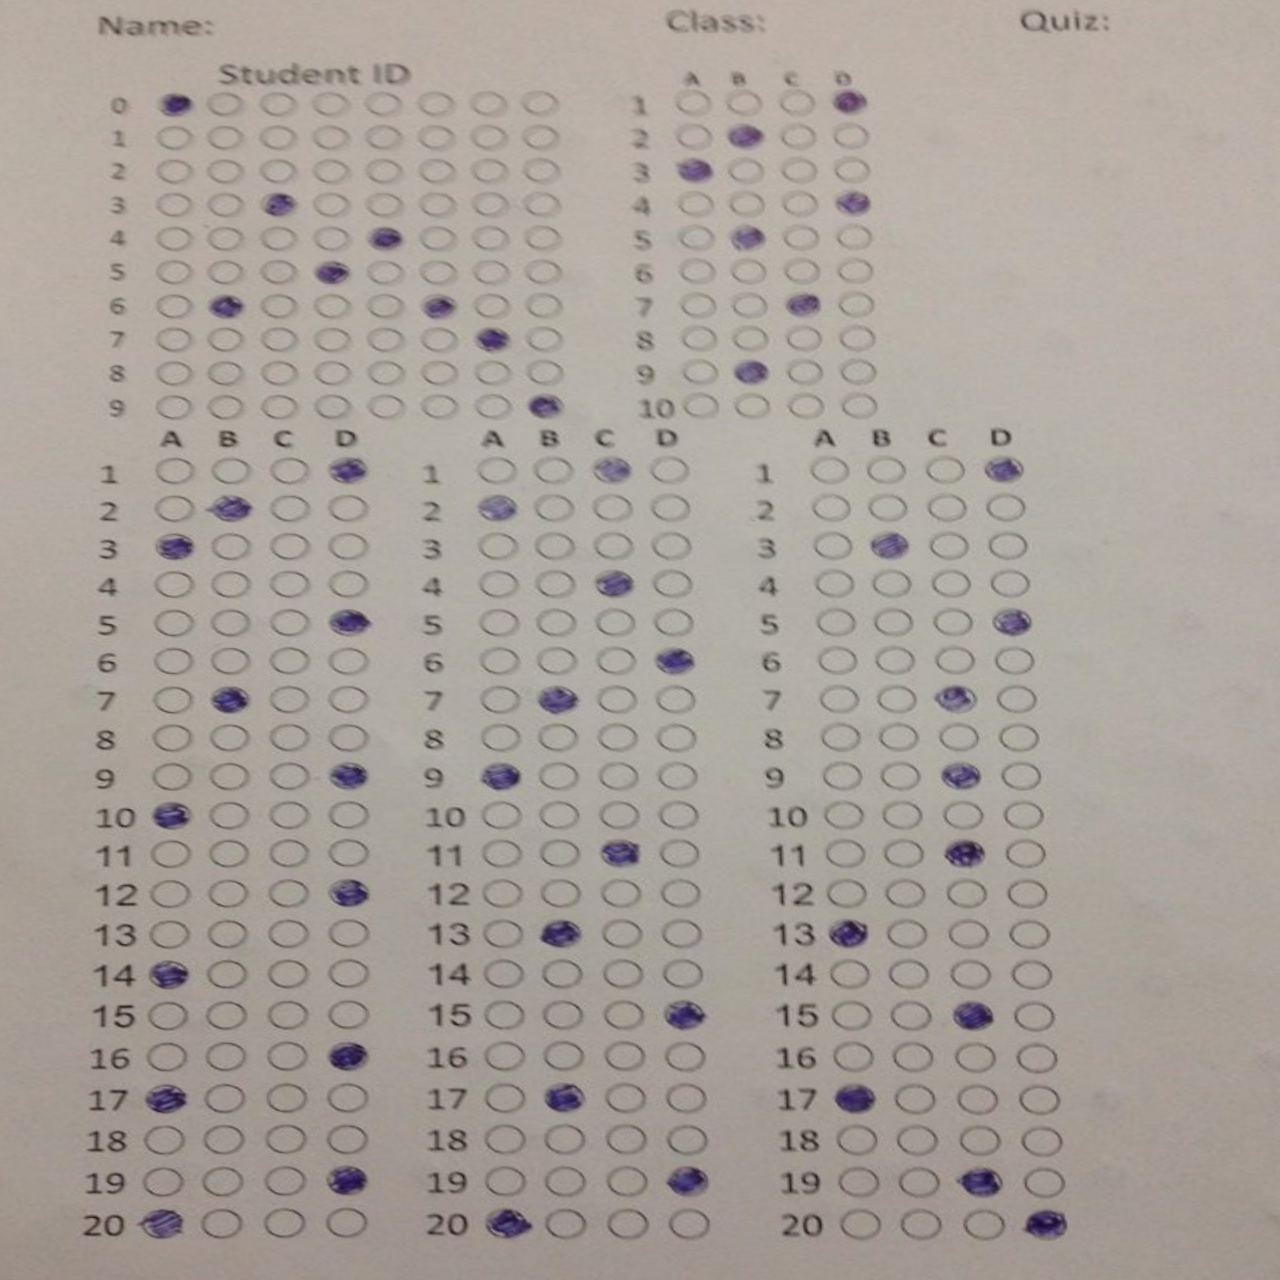not-c: (198, 1164, 248, 1197), (959, 1208, 1010, 1240), (322, 998, 372, 1030), (258, 1166, 311, 1196), (658, 917, 704, 949), (590, 606, 640, 636), (949, 1042, 1000, 1073), (898, 1206, 941, 1241), (263, 876, 311, 907), (645, 452, 693, 484), (590, 682, 638, 714), (652, 760, 700, 791), (884, 956, 932, 988), (828, 1039, 876, 1070), (139, 1122, 185, 1155), (896, 1124, 941, 1157), (658, 877, 704, 908), (658, 1041, 708, 1070), (199, 1041, 247, 1071), (324, 1083, 372, 1114), (259, 1124, 307, 1155), (481, 1081, 529, 1111), (666, 1208, 714, 1239), (822, 799, 866, 832), (204, 837, 250, 869), (263, 918, 308, 949), (325, 917, 370, 948), (142, 999, 188, 1030), (200, 1082, 246, 1114), (655, 837, 701, 869), (537, 876, 583, 907), (935, 721, 981, 753), (1013, 1041, 1058, 1073), (666, 1126, 715, 1156), (263, 956, 309, 987), (138, 1164, 185, 1194), (533, 722, 580, 753), (595, 918, 642, 948), (1006, 919, 1053, 949), (1015, 1083, 1062, 1114), (655, 683, 699, 716), (890, 1039, 933, 1071), (265, 998, 309, 1029), (602, 1082, 647, 1114), (197, 1208, 245, 1238), (319, 1207, 367, 1237), (593, 760, 641, 789), (879, 802, 927, 831), (821, 879, 869, 908), (881, 917, 930, 946), (958, 1126, 1006, 1156), (263, 721, 308, 751), (264, 761, 309, 791), (537, 956, 583, 987), (602, 1124, 648, 1155), (542, 1164, 587, 1194), (1012, 1000, 1057, 1030), (835, 1167, 880, 1198), (326, 956, 368, 989), (264, 1039, 306, 1071), (259, 1208, 308, 1237), (829, 998, 871, 1030), (1023, 1126, 1065, 1159), (264, 456, 311, 485), (533, 456, 580, 485), (649, 493, 696, 523), (474, 723, 520, 753), (535, 839, 581, 869), (479, 998, 526, 1027), (663, 1082, 710, 1111), (483, 1123, 526, 1155), (949, 958, 993, 989), (150, 683, 195, 714), (326, 724, 370, 755), (322, 1124, 367, 1155), (474, 529, 518, 559), (651, 606, 695, 636), (824, 960, 872, 988), (874, 644, 915, 676), (998, 720, 1039, 753), (154, 495, 199, 524), (264, 838, 309, 867), (263, 1083, 308, 1112), (535, 760, 580, 789), (478, 837, 524, 866), (539, 1123, 585, 1152), (661, 959, 703, 990), (893, 1082, 935, 1114), (324, 530, 367, 560), (200, 1124, 244, 1155), (594, 799, 638, 830), (602, 956, 646, 987), (602, 1040, 646, 1070), (202, 1002, 248, 1030), (265, 493, 309, 523), (606, 1206, 651, 1235), (806, 454, 851, 483), (1001, 764, 1046, 794), (1006, 839, 1050, 869), (1010, 961, 1055, 990), (886, 1000, 931, 1029), (588, 493, 636, 520), (477, 802, 525, 829), (922, 456, 971, 483), (930, 607, 978, 634), (264, 532, 309, 560), (470, 454, 516, 482), (531, 567, 577, 595), (594, 724, 640, 753), (602, 1164, 645, 1194), (881, 879, 927, 907), (900, 1165, 942, 1196), (325, 492, 368, 522), (206, 607, 250, 636), (207, 801, 251, 830), (150, 839, 193, 869), (529, 491, 572, 520), (532, 529, 576, 558), (838, 1124, 881, 1153), (1024, 1167, 1068, 1197), (483, 956, 522, 989), (325, 801, 372, 828), (481, 1167, 527, 1194), (150, 644, 195, 672), (267, 683, 312, 712), (147, 880, 191, 908), (669, 120, 714, 148), (931, 568, 975, 597), (881, 839, 926, 867), (268, 606, 309, 636), (477, 683, 518, 714), (840, 1210, 881, 1240), (365, 358, 407, 387), (602, 999, 645, 1028), (985, 493, 1027, 523), (813, 644, 856, 673), (325, 571, 370, 598), (203, 880, 248, 907), (210, 646, 253, 674), (823, 762, 866, 790), (546, 1206, 586, 1237), (143, 1042, 184, 1071), (602, 878, 644, 907), (880, 762, 921, 791), (520, 190, 565, 217), (481, 1042, 525, 1069), (864, 456, 908, 483), (865, 493, 910, 520), (817, 723, 862, 750), (823, 840, 867, 867), (947, 881, 992, 908), (1005, 881, 1049, 908), (946, 920, 990, 947), (206, 530, 248, 558), (266, 645, 308, 673), (540, 1043, 583, 1071), (811, 567, 853, 595), (958, 1085, 1000, 1114), (930, 647, 978, 672), (411, 87, 457, 113), (305, 156, 350, 182), (591, 646, 636, 672), (537, 802, 583, 828), (676, 359, 722, 384), (308, 290, 352, 316), (151, 607, 195, 634), (206, 726, 250, 753), (203, 960, 246, 987), (649, 568, 693, 595), (655, 724, 699, 751), (479, 920, 523, 947), (678, 392, 721, 418), (813, 608, 857, 635), (266, 801, 306, 830), (930, 529, 969, 558), (206, 90, 247, 118), (944, 803, 985, 831), (1001, 803, 1042, 831), (413, 155, 457, 181), (151, 223, 196, 248), (149, 158, 193, 184), (256, 257, 300, 282), (256, 90, 298, 117), (519, 154, 561, 181), (523, 325, 565, 352), (477, 648, 519, 675), (535, 645, 577, 672), (520, 359, 568, 382), (305, 224, 350, 248), (593, 532, 633, 560), (482, 879, 522, 907), (781, 190, 821, 218), (363, 121, 407, 147), (256, 122, 299, 148), (150, 122, 193, 148), (516, 87, 559, 113), (464, 155, 508, 181), (515, 121, 558, 147), (463, 121, 506, 147), (362, 156, 406, 182), (257, 155, 300, 181), (203, 156, 246, 182), (151, 257, 195, 282), (413, 189, 456, 215), (253, 290, 297, 315), (204, 257, 247, 282), (150, 570, 193, 595), (325, 647, 368, 673), (150, 726, 193, 751), (327, 840, 370, 866), (147, 922, 190, 948), (469, 224, 510, 251), (835, 257, 876, 284), (783, 324, 824, 350), (831, 118, 869, 148), (414, 122, 458, 147), (203, 123, 247, 148), (150, 191, 195, 216), (150, 293, 195, 318), (361, 190, 406, 215), (520, 292, 565, 316), (203, 922, 247, 947), (872, 686, 917, 710), (309, 189, 352, 215), (199, 190, 241, 216), (256, 223, 298, 248), (154, 359, 196, 384), (202, 393, 244, 418), (533, 607, 576, 633), (660, 801, 699, 829), (673, 292, 715, 318), (415, 225, 455, 252), (265, 570, 305, 597), (207, 762, 247, 789), (476, 610, 516, 636), (543, 1001, 583, 1028), (873, 571, 913, 598), (464, 88, 508, 113), (200, 225, 244, 250), (211, 459, 252, 485), (207, 570, 248, 595), (151, 763, 192, 789), (835, 327, 876, 353), (989, 531, 1030, 557), (878, 723, 919, 749), (327, 683, 365, 712), (993, 567, 1030, 595), (418, 356, 457, 383), (309, 122, 352, 147), (465, 191, 508, 216), (149, 326, 191, 350), (674, 190, 716, 215), (311, 325, 350, 350), (365, 394, 404, 420), (651, 532, 690, 558), (837, 358, 877, 383), (821, 686, 860, 712), (309, 91, 347, 118), (363, 326, 401, 353), (874, 608, 912, 635), (774, 89, 815, 114), (779, 224, 821, 248), (995, 646, 1036, 670), (998, 687, 1039, 712), (367, 291, 406, 316), (309, 359, 348, 384), (311, 392, 349, 417), (477, 570, 516, 595), (927, 493, 966, 519), (152, 457, 195, 481), (416, 260, 456, 285), (205, 360, 245, 384), (421, 393, 461, 417), (808, 493, 847, 518), (723, 88, 760, 115), (474, 360, 511, 386), (832, 155, 870, 181), (674, 257, 712, 282), (470, 394, 513, 416), (784, 360, 825, 383), (809, 531, 847, 556), (675, 86, 710, 113), (202, 328, 246, 349), (729, 192, 765, 218), (784, 257, 821, 282), (360, 89, 400, 113), (257, 327, 297, 350), (726, 258, 765, 281), (260, 362, 298, 387), (728, 291, 765, 315), (520, 225, 561, 247), (415, 326, 456, 348), (470, 260, 509, 284), (678, 326, 716, 349), (779, 122, 816, 147), (835, 223, 871, 247), (523, 260, 563, 282), (731, 395, 771, 417), (837, 292, 872, 316), (365, 260, 403, 282), (785, 394, 824, 416), (726, 159, 765, 181), (472, 294, 510, 316), (678, 225, 713, 248), (729, 324, 765, 346), (156, 396, 189, 421), (257, 395, 294, 416), (840, 395, 874, 416), (778, 158, 813, 178)
taken-c: (654, 994, 709, 1034), (479, 1203, 535, 1241), (537, 1076, 592, 1115), (945, 998, 1002, 1034), (203, 679, 257, 717), (321, 872, 376, 910), (321, 602, 374, 641), (141, 954, 192, 992), (204, 489, 254, 526), (136, 1206, 188, 1242), (937, 757, 988, 794), (978, 451, 1030, 485), (987, 605, 1040, 639), (474, 757, 523, 794), (149, 527, 199, 563), (324, 1162, 374, 1197), (649, 642, 700, 678), (824, 915, 874, 951), (321, 758, 373, 792), (139, 1080, 191, 1114), (939, 835, 990, 869), (829, 1081, 880, 1115), (324, 450, 372, 486), (1024, 1207, 1073, 1244), (532, 681, 583, 715), (665, 1163, 713, 1198), (864, 526, 912, 561), (932, 681, 981, 715), (955, 1167, 1008, 1199), (722, 222, 772, 254), (324, 1040, 372, 1074), (538, 915, 586, 949), (471, 491, 519, 525), (360, 222, 410, 253), (148, 798, 195, 832), (588, 452, 635, 486), (414, 290, 462, 322), (591, 566, 640, 598), (151, 88, 199, 120), (256, 186, 302, 218), (595, 838, 641, 869), (831, 189, 878, 218), (670, 155, 719, 183), (309, 257, 353, 287), (472, 322, 516, 353), (729, 358, 772, 386), (205, 291, 245, 321), (830, 86, 870, 116), (724, 122, 765, 151), (525, 390, 565, 420), (785, 291, 825, 319)
